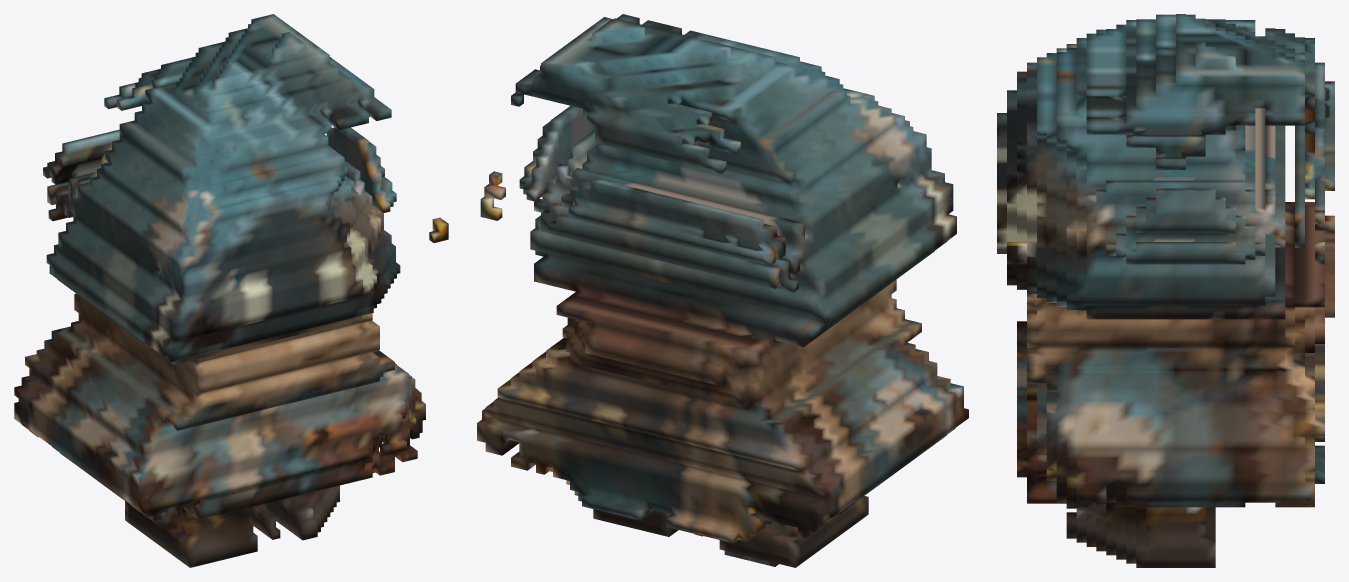
Rendered from sheet1_L8.glb.
3 renders of one model, left to right at view 1: azimuth 30°, elevation 25°; view 2: azimuth 150°, elevation 25°; view 3: azimuth 270°, elevation 25°, orthographic. The views are drawn at different scales.
Parts seen in each view (by area): view 1: BPT_sheet1_L8; view 2: BPT_sheet1_L8; view 3: BPT_sheet1_L8.
Boxes of the visible parts, x1,y1,x2,y2 form: BPT_sheet1_L8: [14, 14, 448, 567]; BPT_sheet1_L8: [477, 14, 968, 567]; BPT_sheet1_L8: [997, 14, 1334, 567].
Size of the model in its own units: 1.44 by 2 by 1.19.
